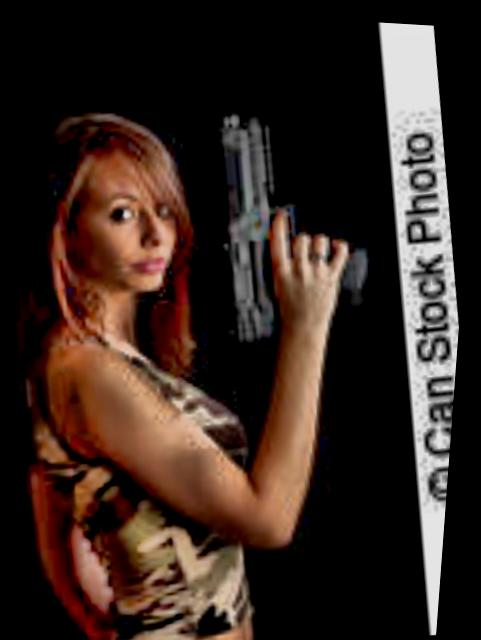pistol: (193, 74, 392, 351)
